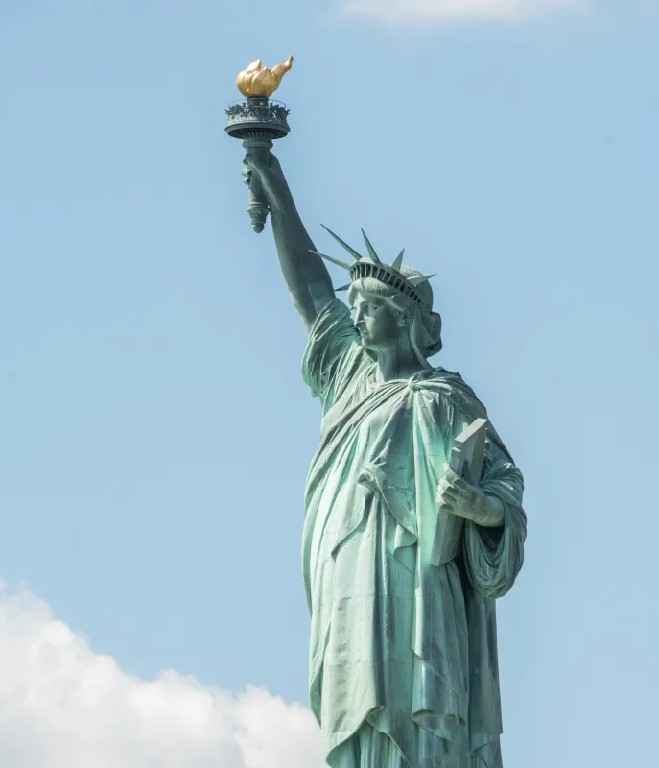SL: (224, 56, 529, 768)
